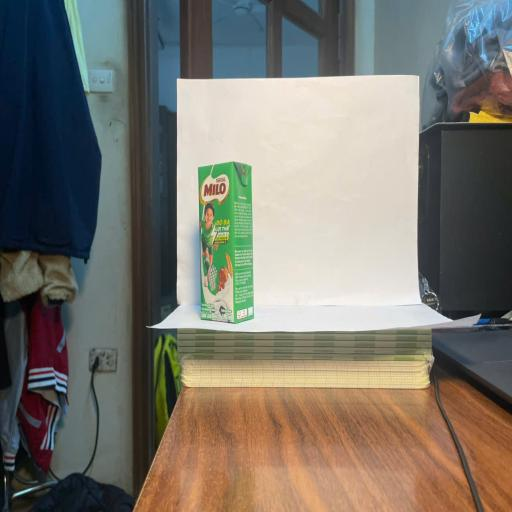milo: (199, 162, 253, 321)
